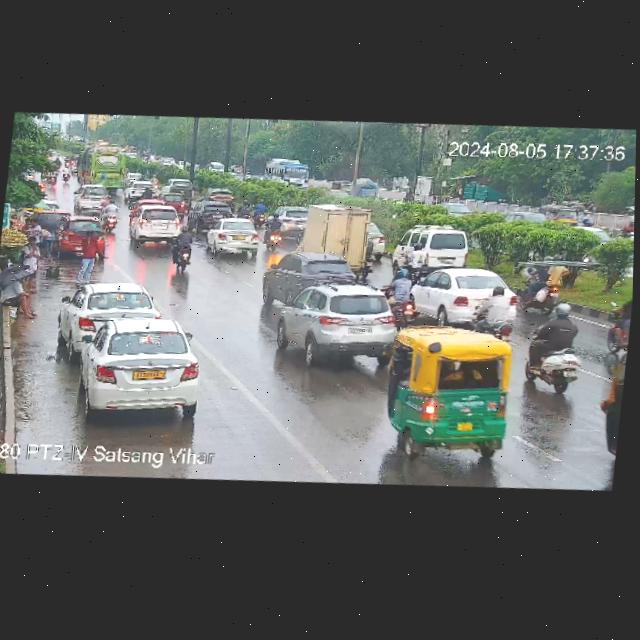bus: (72, 141, 130, 190), (263, 154, 311, 189)
car: (380, 314, 520, 461), (57, 308, 209, 426), (274, 275, 406, 363), (407, 261, 520, 325), (63, 276, 158, 345), (396, 223, 477, 272), (272, 249, 365, 290), (127, 203, 187, 250), (57, 213, 110, 264), (203, 219, 263, 258), (73, 181, 115, 211), (271, 203, 308, 233), (544, 199, 577, 229), (194, 199, 240, 219), (202, 187, 240, 204), (126, 180, 157, 200), (368, 223, 387, 255), (157, 191, 188, 206), (168, 177, 196, 191), (229, 164, 244, 175)
motorcycle: (525, 307, 587, 393), (519, 247, 574, 308), (472, 288, 519, 339), (601, 292, 633, 362), (386, 265, 417, 318), (168, 229, 200, 272), (261, 211, 284, 250), (97, 202, 120, 233), (409, 241, 426, 279), (363, 235, 378, 276), (619, 215, 634, 243), (251, 201, 269, 223), (578, 208, 597, 228), (239, 196, 252, 218), (61, 163, 70, 184), (148, 172, 159, 182), (50, 169, 56, 185), (65, 155, 71, 167), (54, 158, 61, 167), (140, 174, 145, 179)
person: (0, 273, 39, 320), (76, 228, 107, 279), (22, 233, 40, 273), (20, 213, 42, 235)
truck: (294, 198, 391, 279)
